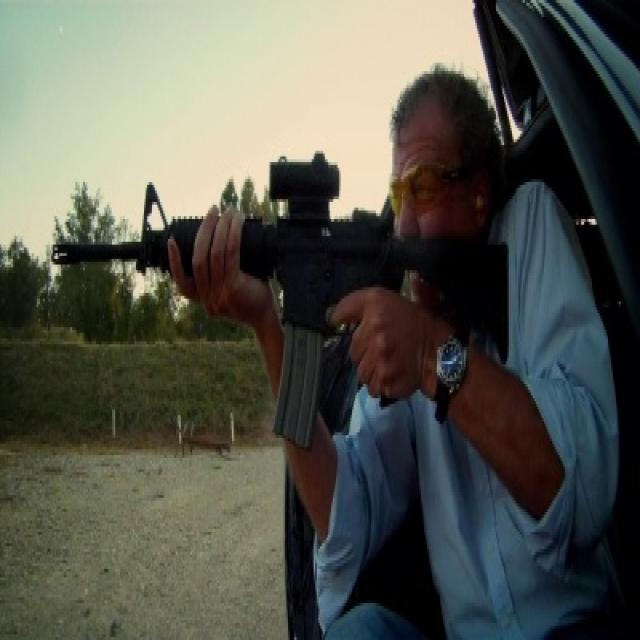rifle: (51, 146, 518, 450)
